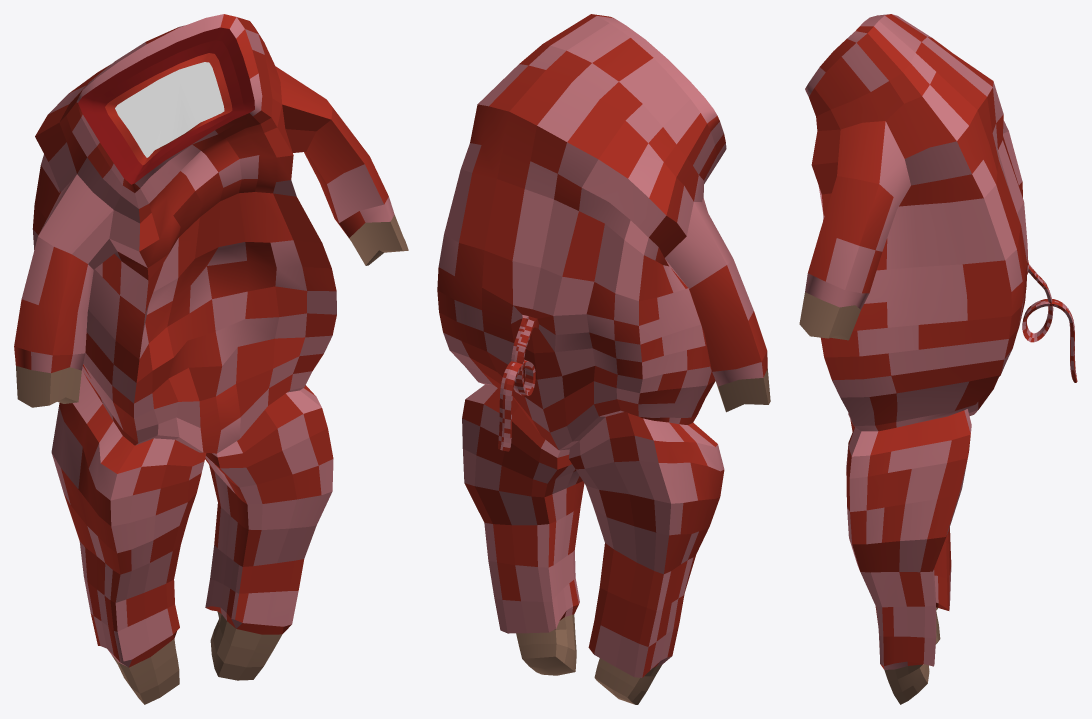
File: Dead Pig.fbx
3 renders of one model, left to right at view 1: azimuth 30°, elevation 25°; view 2: azimuth 150°, elevation 25°; view 3: azimuth 270°, elevation 25°, orthographic. The views are drawn at different scales.
Visible parts, largest first — view 1: Decapitated; view 2: Decapitated; view 3: Decapitated.
Part boxes in pixels (box(x1,y1,x2,y2)): Decapitated: box(14, 14, 408, 704); Decapitated: box(437, 14, 770, 704); Decapitated: box(799, 14, 1077, 704).
Bounding box in the file's own units: 388 × 730 × 278.
